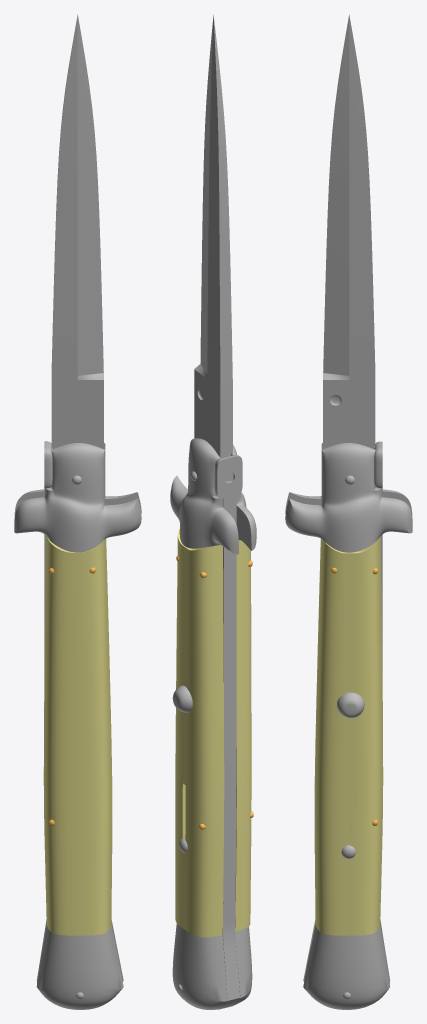
The model's file is stiletto_knife_high-poly.glb.
3 views of the same model, side by side, from view 1: azimuth 90°, elevation 25°; view 2: azimuth 210°, elevation 25°; view 3: azimuth 270°, elevation 25° (orthographic).
Bounding box in the file's own units: 0.3777 × 4.96 × 0.5774.
